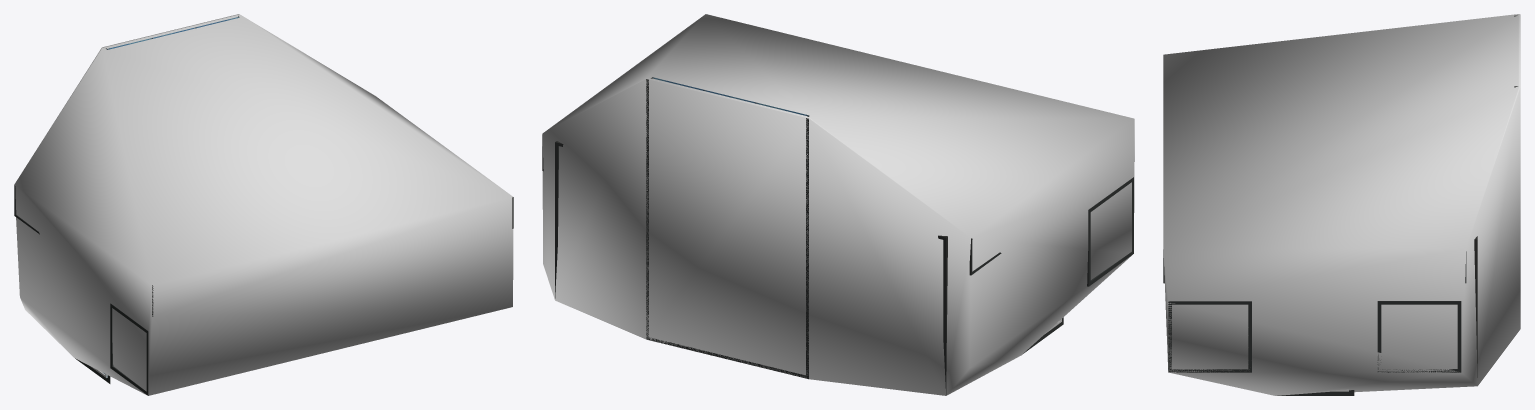
3 views of the same model, side by side, from view 1: azimuth 30°, elevation 25°; view 2: azimuth 150°, elevation 25°; view 3: azimuth 270°, elevation 25° (orthographic). The views are drawn at different scales.
Parts seen in each view (by area): view 1: struct_city_block_low_base_b_01_col, struct_city_block_low_base_b_01; view 2: struct_city_block_low_base_b_01_col, struct_city_block_low_base_b_01; view 3: struct_city_block_low_base_b_01_col, struct_city_block_low_base_b_01.
Boxes of the visible parts, x1,y1,x2,y2 form: struct_city_block_low_base_b_01_col: (14, 14, 513, 395); struct_city_block_low_base_b_01: (14, 16, 513, 395); struct_city_block_low_base_b_01_col: (542, 14, 1134, 395); struct_city_block_low_base_b_01: (542, 77, 1133, 394); struct_city_block_low_base_b_01_col: (1163, 14, 1520, 395); struct_city_block_low_base_b_01: (1163, 15, 1517, 395).
Size of the model in its own units: 9.47 by 5.71 by 7.3.
Materials: 3 (2 with a texture image).
